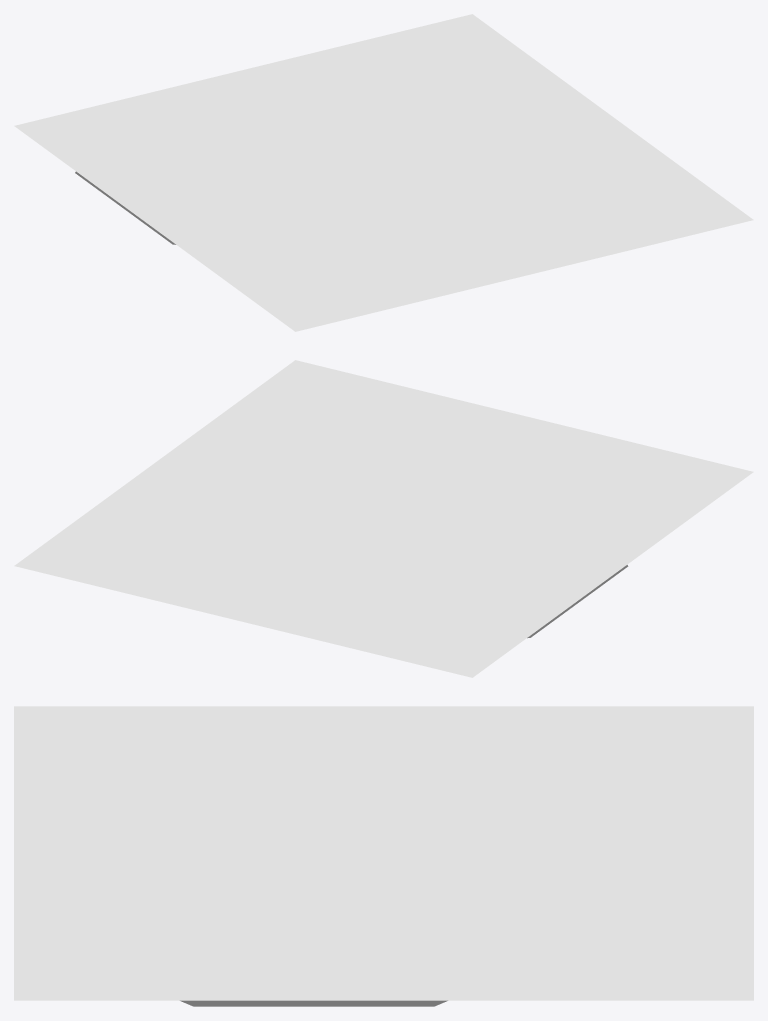
The model's file is Rockodromo_webGL.glb.
3 views of the same model, one above another, from view 1: azimuth 30°, elevation 25°; view 2: azimuth 150°, elevation 25°; view 3: azimuth 270°, elevation 25° (orthographic). The views are drawn at different scales.
Visible parts, largest first — view 1: Rock; view 2: Rock; view 3: Rock.
Part boxes in pixels (left/top/right/bottom): Rock: left=14, top=14, right=753, bottom=331; Rock: left=14, top=360, right=753, bottom=677; Rock: left=14, top=706, right=753, bottom=1006.
Size of the model in its own units: 445 by 3.52 by 472.
Materials: 1 (1 with a texture image).
